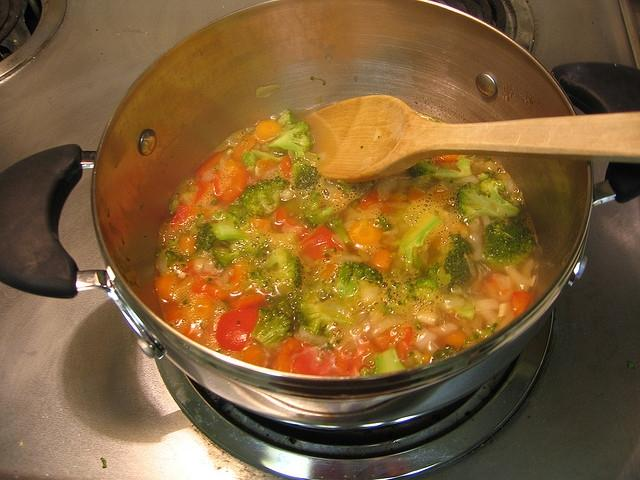broccoli: (456, 177, 520, 224), (295, 290, 352, 336), (252, 300, 307, 347), (239, 176, 290, 219), (484, 220, 536, 262), (402, 218, 442, 270), (215, 224, 268, 258), (265, 121, 311, 157), (443, 234, 472, 288), (337, 262, 383, 296), (300, 187, 334, 229), (360, 346, 405, 376), (409, 158, 472, 177), (195, 223, 230, 251), (292, 161, 321, 190), (280, 256, 304, 290), (415, 277, 441, 292), (242, 150, 260, 166), (166, 251, 183, 267), (404, 278, 412, 285)
tomato: (214, 308, 258, 352), (298, 225, 344, 262), (213, 158, 249, 204), (293, 346, 337, 376), (271, 207, 309, 239), (228, 281, 267, 310), (190, 273, 228, 300), (358, 189, 399, 213), (197, 152, 225, 178), (155, 274, 180, 302), (369, 328, 396, 352), (395, 327, 412, 364), (170, 204, 196, 228), (510, 291, 532, 319), (432, 155, 466, 172), (367, 250, 393, 272), (242, 346, 266, 366), (280, 155, 290, 178)
